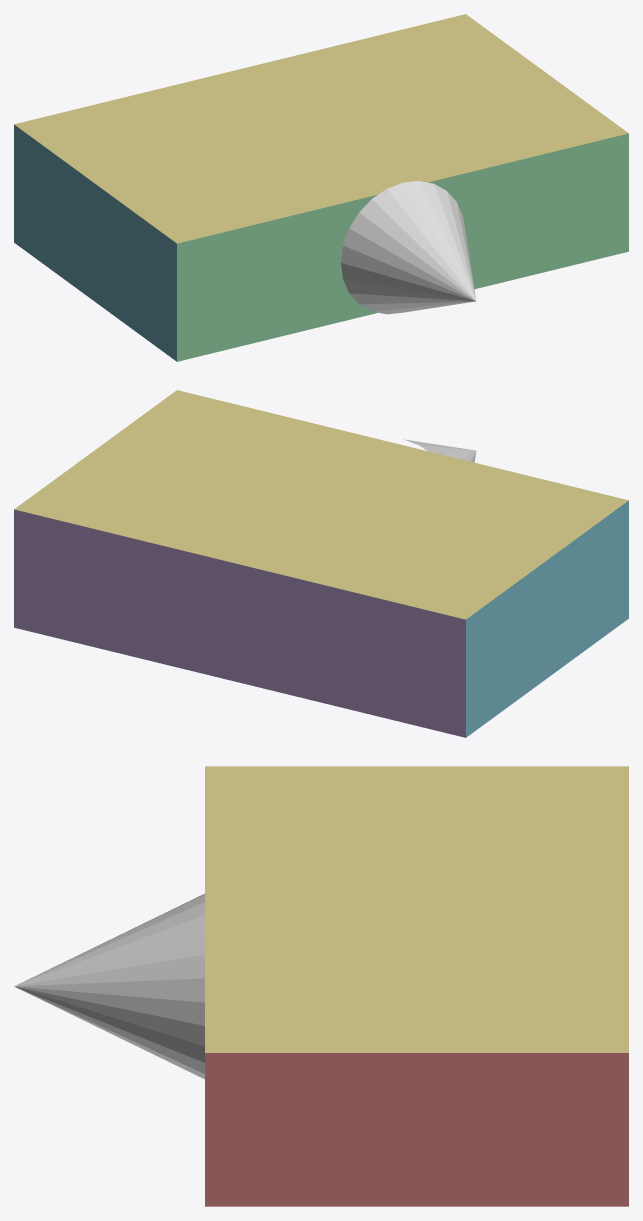
The model's file is pivot-block.glb.
3 views of the same model, one above another, from view 1: azimuth 30°, elevation 25°; view 2: azimuth 150°, elevation 25°; view 3: azimuth 270°, elevation 25° (orthographic). The views are drawn at different scales.
Visible parts, largest first — view 1: PivotBlock; view 2: PivotBlock; view 3: PivotBlock.
Part boxes in pixels (x1,y1,x2,y2): PivotBlock: (14, 14, 628, 361); PivotBlock: (14, 390, 628, 737); PivotBlock: (14, 766, 628, 1206).
Size of the model in its own units: 1.6 by 0.44 by 1.45.
